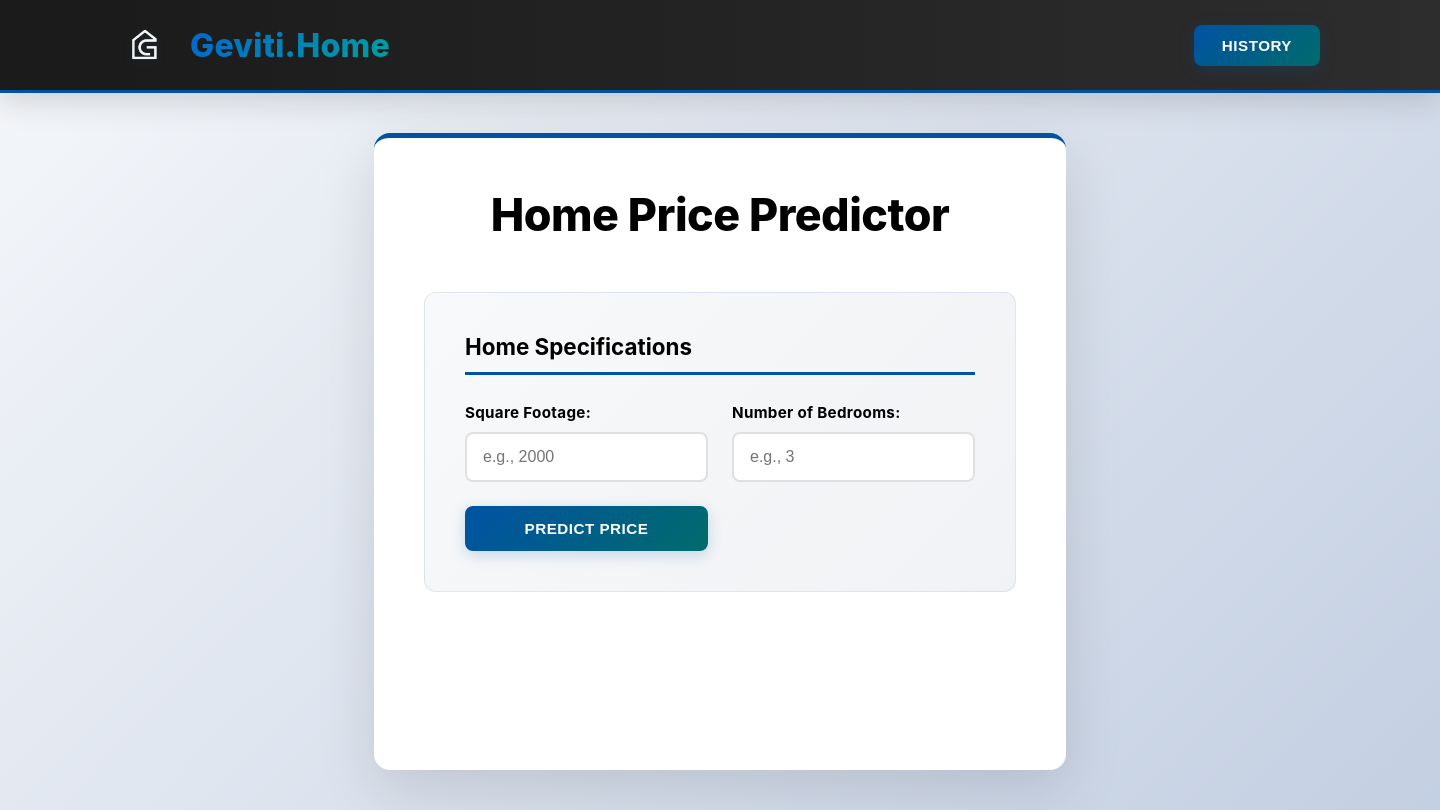
Scenario: Home Price Predictor App › shows error message on failed prediction
The image size is (1440, 810).
Type "2000" into the number field with placeholder "e.g., 2000" at [586, 457], box [465,432,708,482]
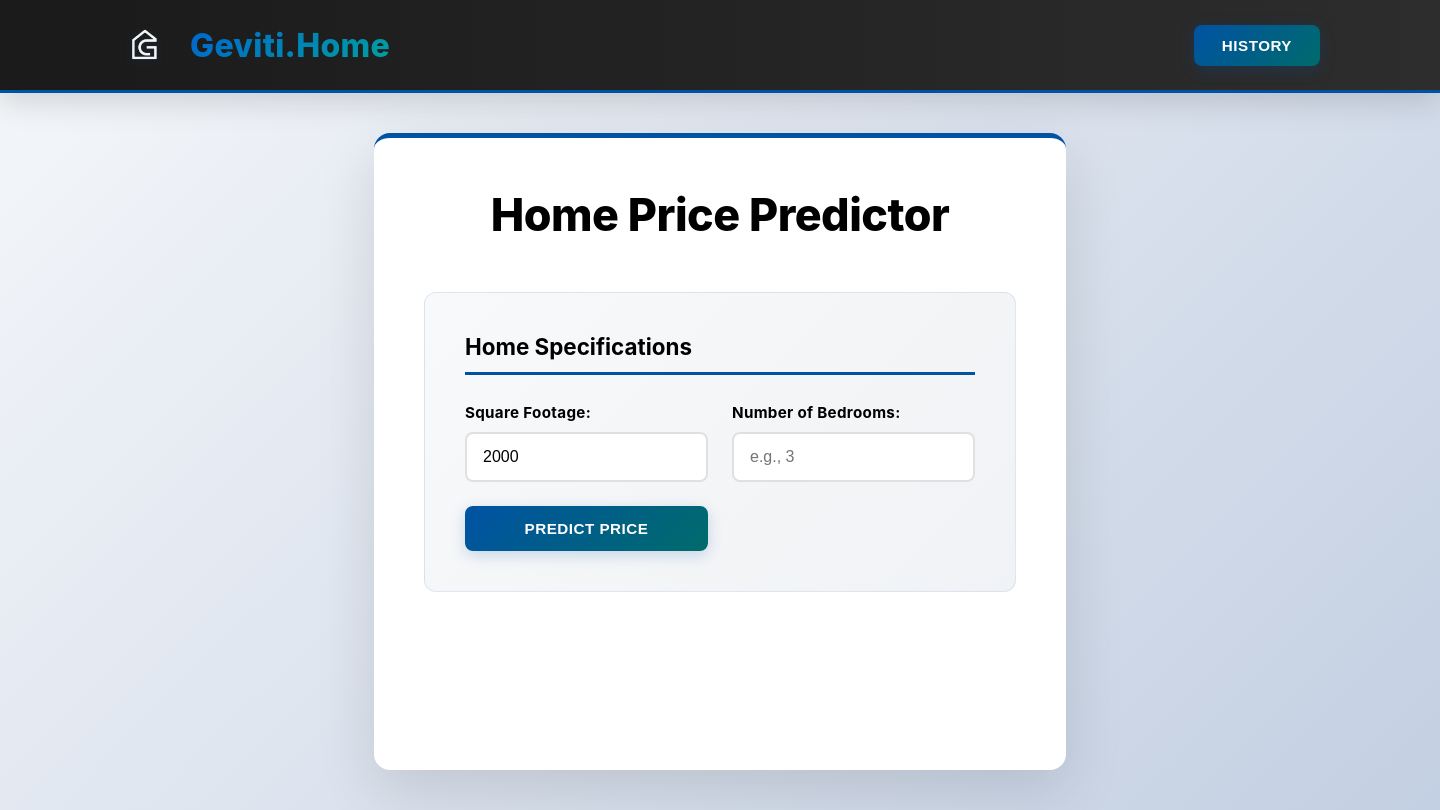
Type "3" into the number field with placeholder "e.g., 3" at [854, 457], box [732,432,975,482]
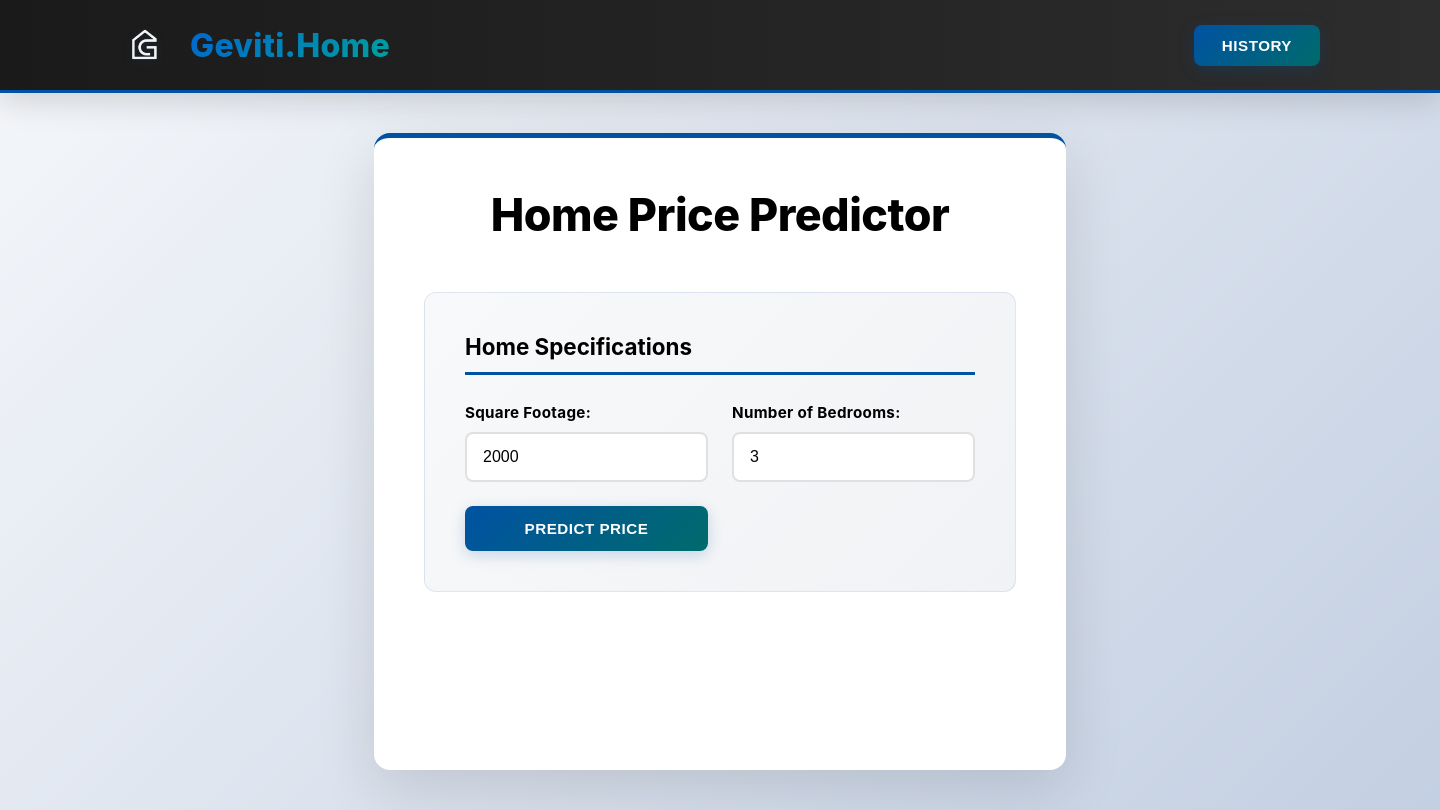
Click the button "Predict Price" at [586, 528], box [465,506,708,551]
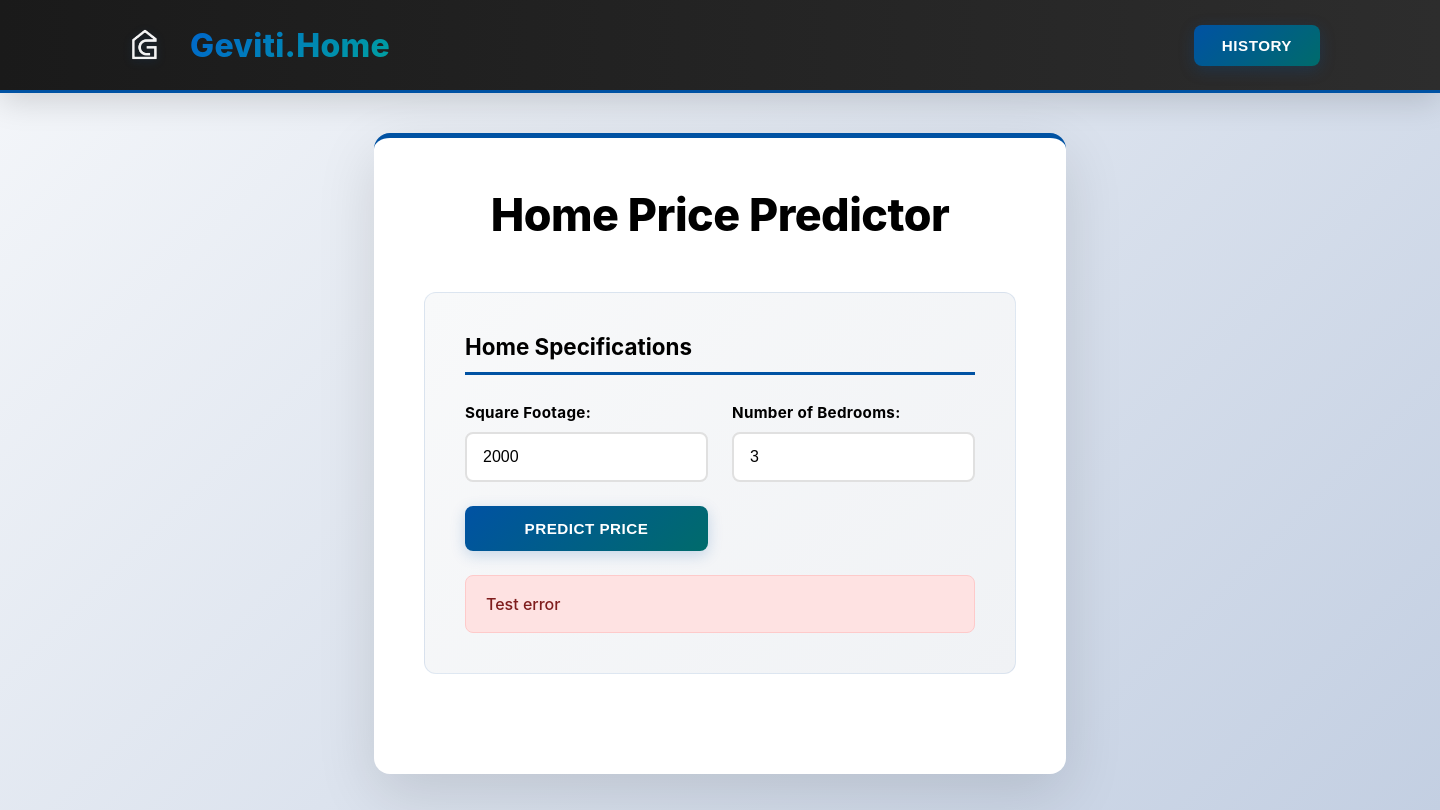
expect the text "Test error" is shown: met, box [465,575,975,633]
